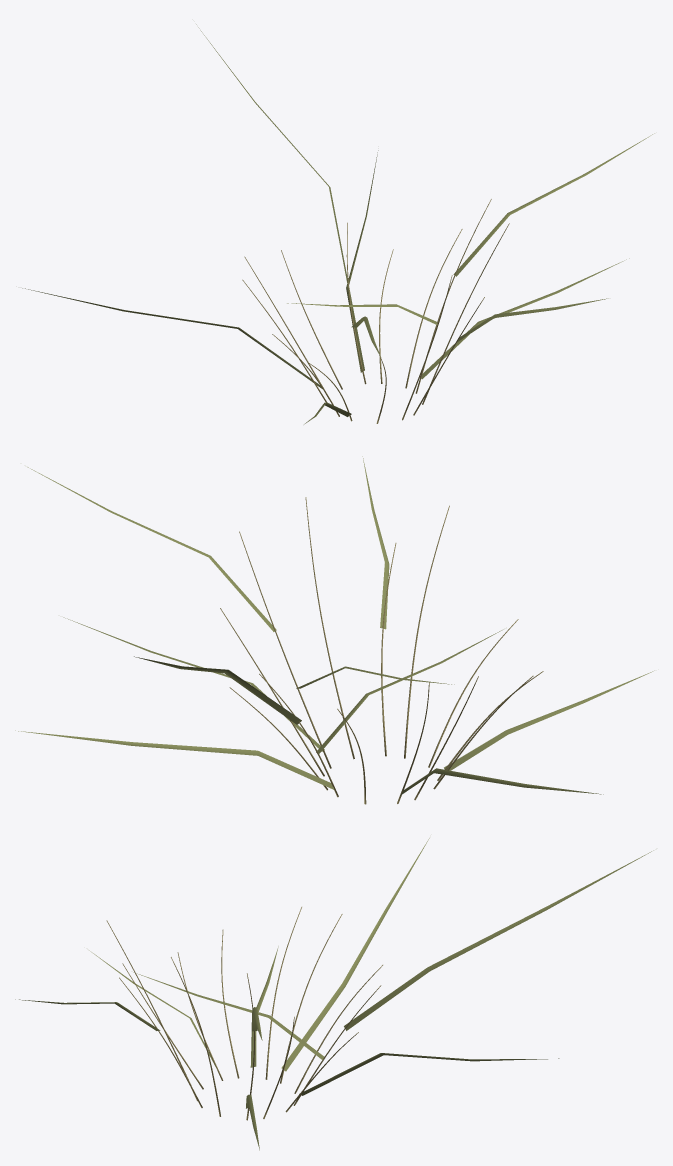
Rendered from Herbes_0_Niveau2.fbx.
3 views of the same model, one above another, from view 1: azimuth 30°, elevation 25°; view 2: azimuth 150°, elevation 25°; view 3: azimuth 270°, elevation 25° (orthographic). The views are drawn at different scales.
Visible parts, largest first — view 1: Herbes_0_Niveau2_Jeu; view 2: Herbes_0_Niveau2_Jeu; view 3: Herbes_0_Niveau2_Jeu.
Part boxes in pixels (box(x1,y1,x2,y2)): Herbes_0_Niveau2_Jeu: box(22, 24, 654, 424); Herbes_0_Niveau2_Jeu: box(15, 456, 654, 804); Herbes_0_Niveau2_Jeu: box(15, 838, 653, 1150).
Bounding box in the file's own units: 89.89 × 37.17 × 84.76.
